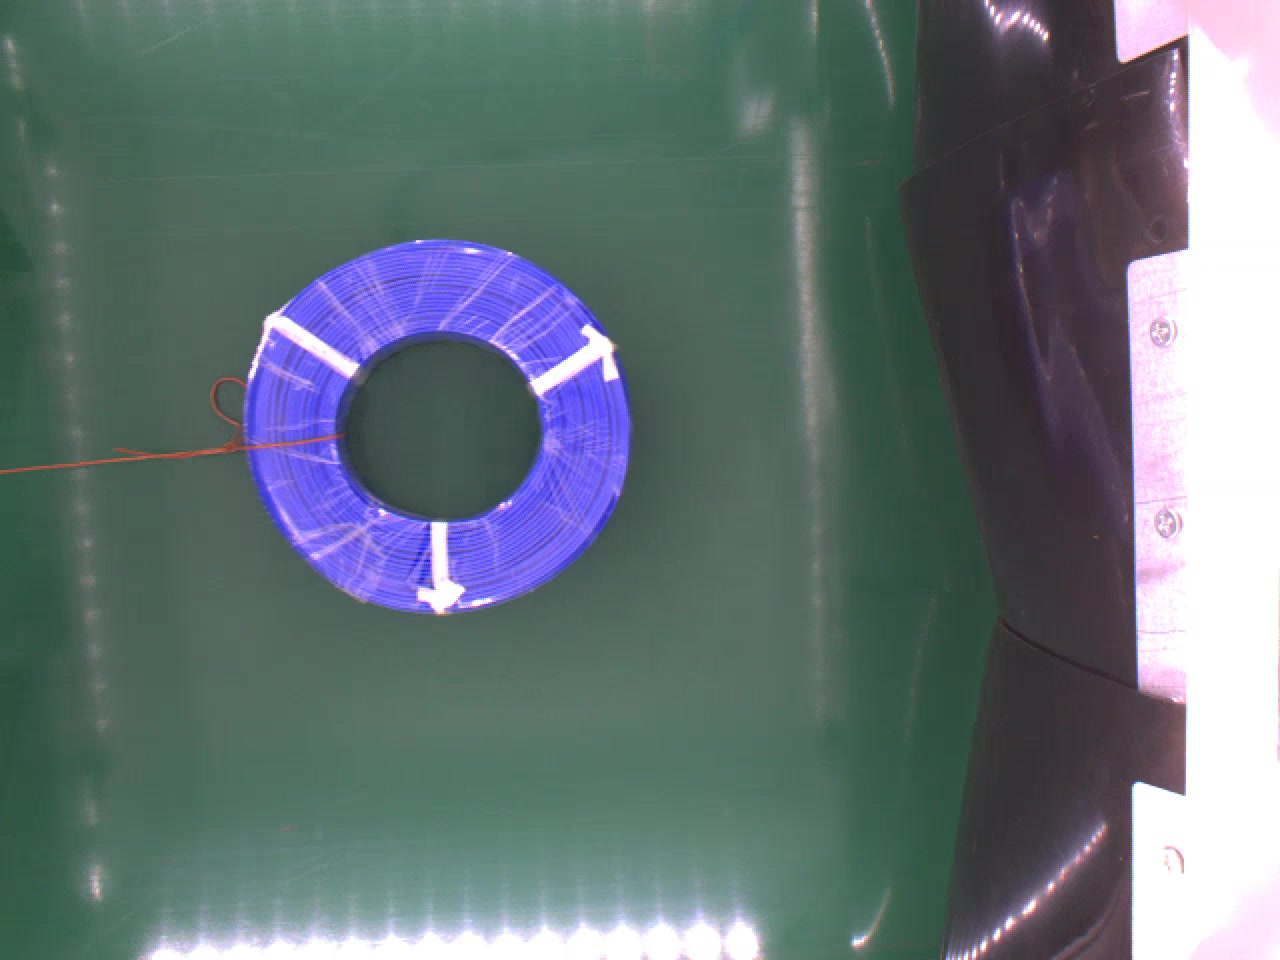blue: (247, 237, 628, 605)
